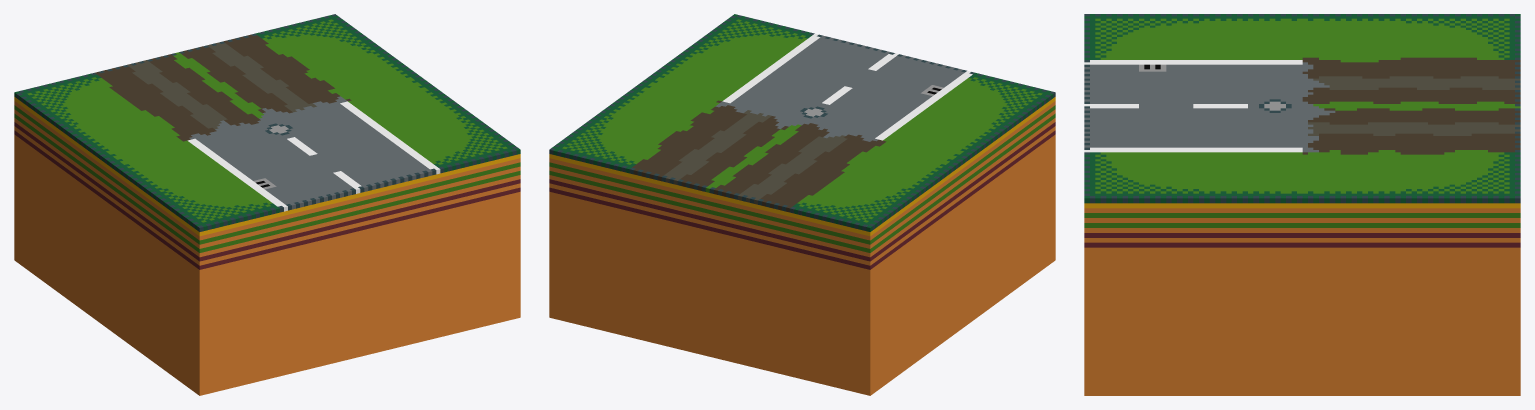
Rendered from road_transition_tile.obj.
3 views of the same model, side by side, from view 1: azimuth 30°, elevation 25°; view 2: azimuth 150°, elevation 25°; view 3: azimuth 270°, elevation 25° (orthographic). The views are drawn at different scales.
Bounding box in the file's own units: 8 × 4 × 8.
Materials: 1 (1 with a texture image).
